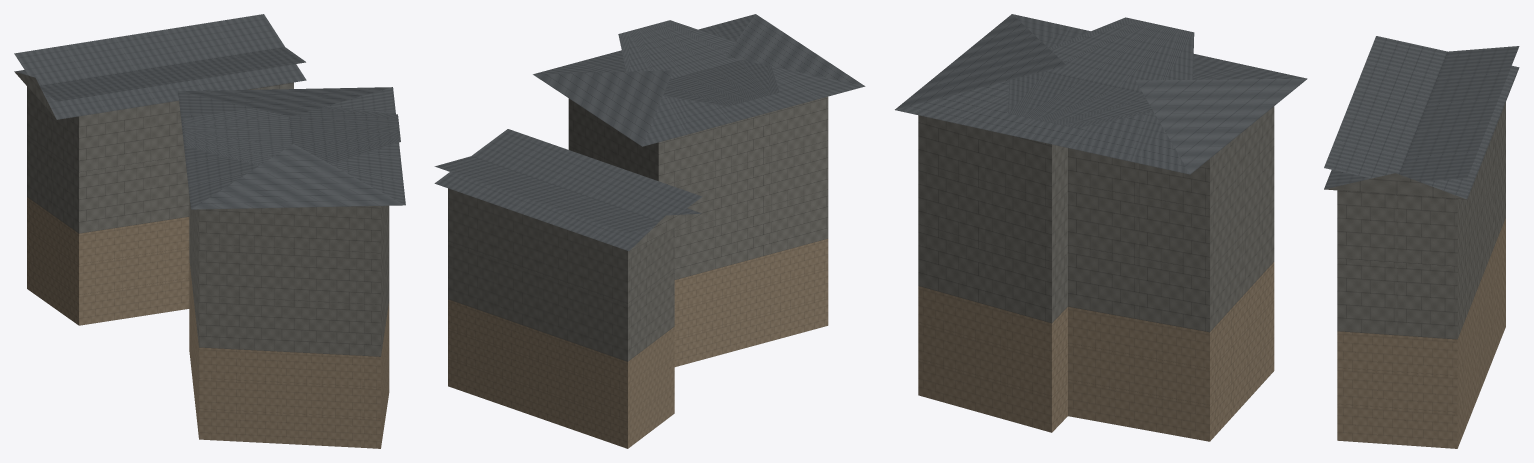
Rendered from bld_c32_-40_446.gltf.
3 renders of one model, left to right at view 1: azimuth 30°, elevation 25°; view 2: azimuth 150°, elevation 25°; view 3: azimuth 270°, elevation 25°, orthographic. The views are drawn at different scales.
Parts seen in each view (by area): view 1: bld_c32_-40_446; view 2: bld_c32_-40_446; view 3: bld_c32_-40_446.
Part boxes in pixels (x1,y1,x2,y2): bld_c32_-40_446: [14, 14, 405, 448]; bld_c32_-40_446: [434, 14, 865, 448]; bld_c32_-40_446: [895, 14, 1519, 448].
Bounding box in the file's own units: 16.06 × 14.7 × 26.4.
4 materials, 4 textured.
